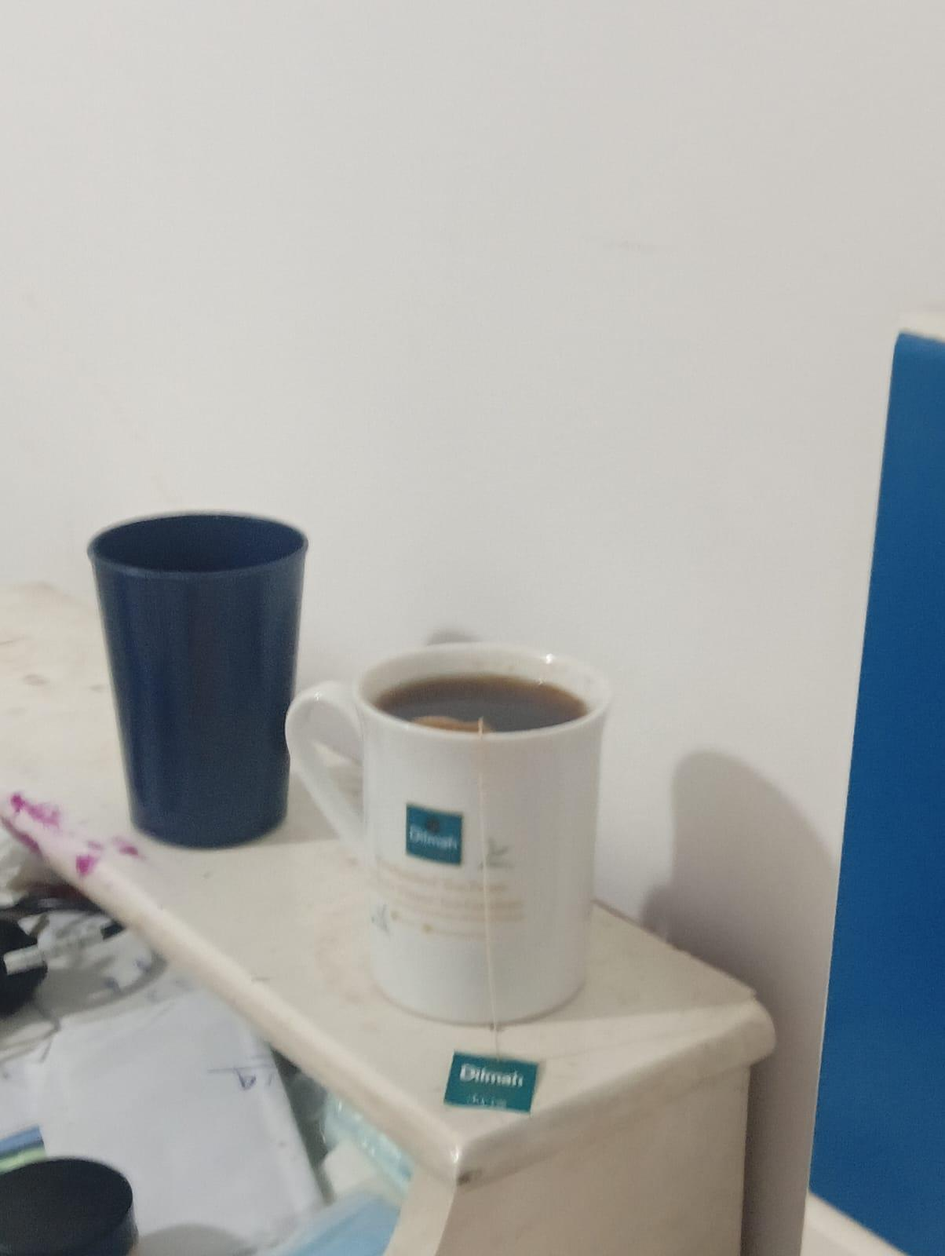cup: (286, 643, 608, 1023), (89, 513, 306, 846)
